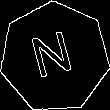N_S: (29, 28, 80, 87)
